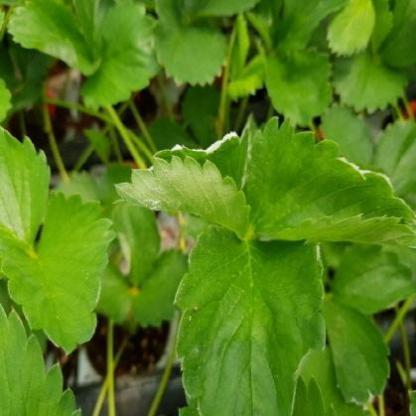Strawberry_Powdery_Mildew_Leaf: (173, 224, 327, 416), (242, 116, 416, 248), (0, 189, 118, 359), (112, 126, 252, 240)
